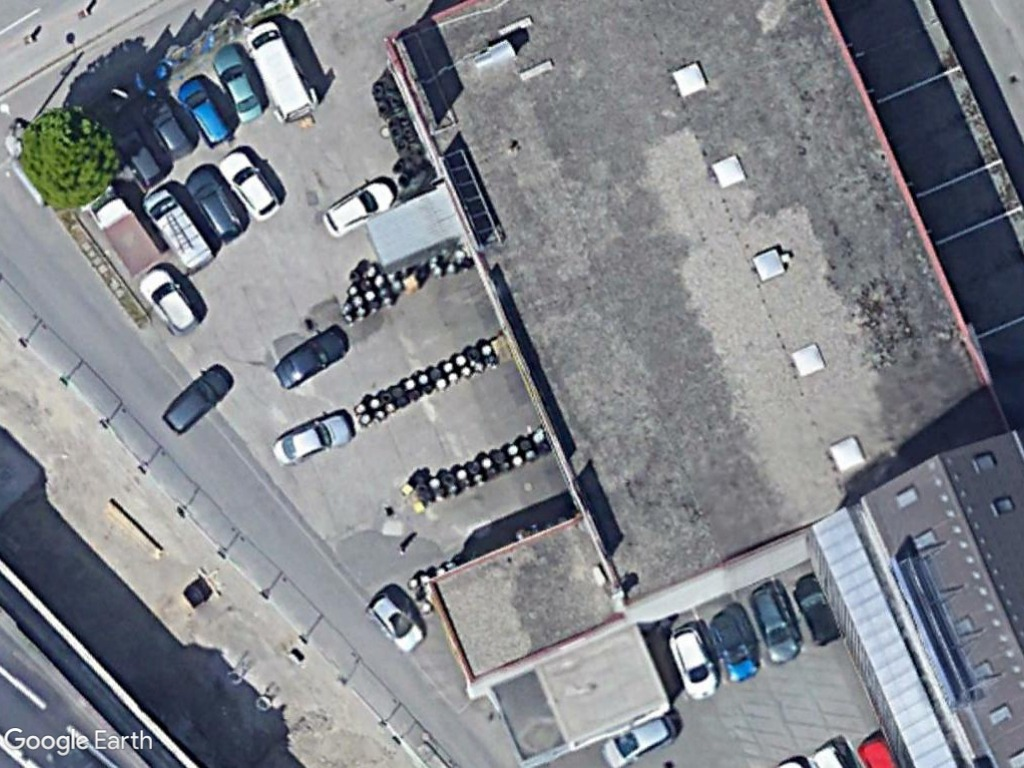car: (161, 362, 233, 440), (320, 172, 400, 242), (180, 163, 248, 245), (271, 322, 348, 393), (214, 147, 284, 225), (272, 408, 357, 469), (209, 40, 265, 123), (174, 72, 234, 147), (360, 588, 426, 656), (749, 583, 803, 666), (664, 623, 720, 703), (138, 264, 198, 336), (708, 608, 760, 687), (138, 94, 197, 163)
van: (247, 17, 316, 125), (136, 186, 214, 273)
